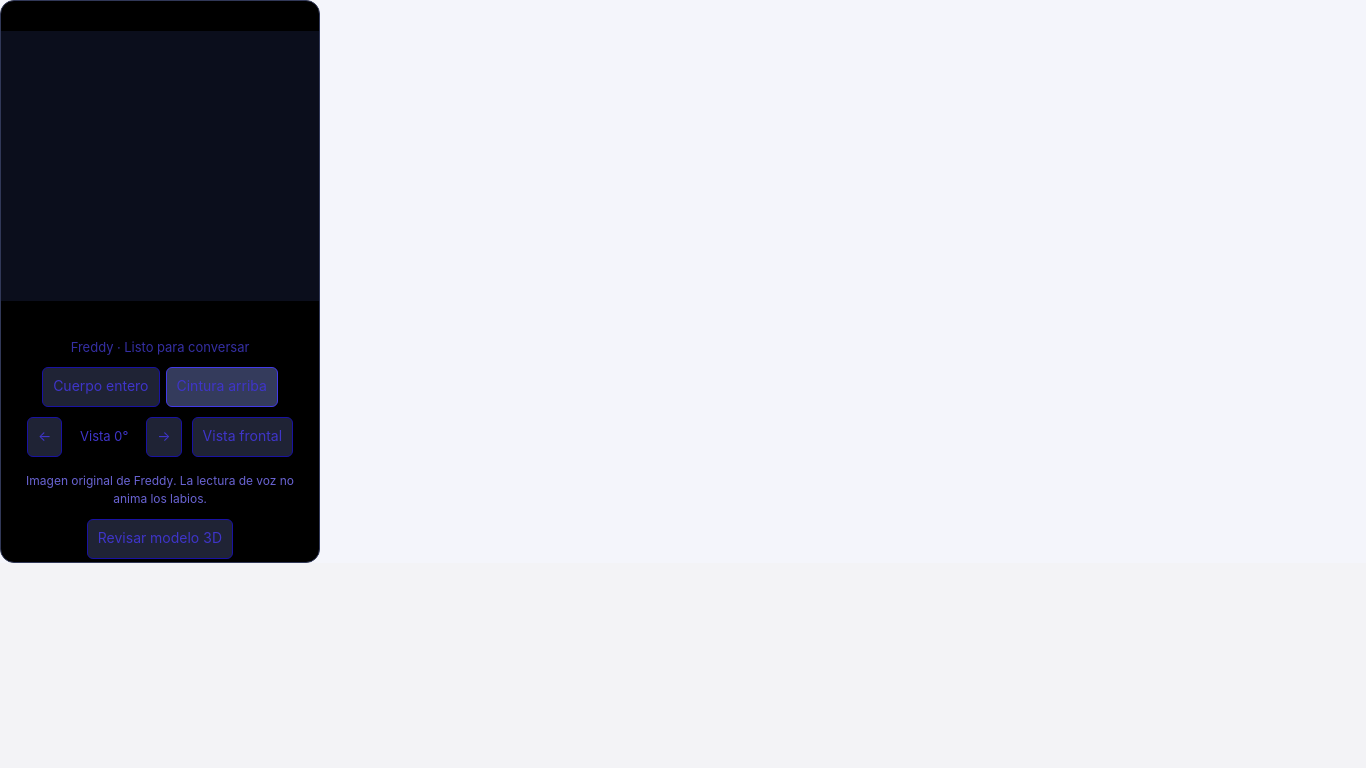
Test: keeps the original portrait on entry and offers a download when the optional 3D viewer lacks WebGL
The image size is (1366, 768).
Later steps or results of the test are not shown.
Click the button "Revisar modelo 3D": [160, 539] box [87, 519, 233, 559]
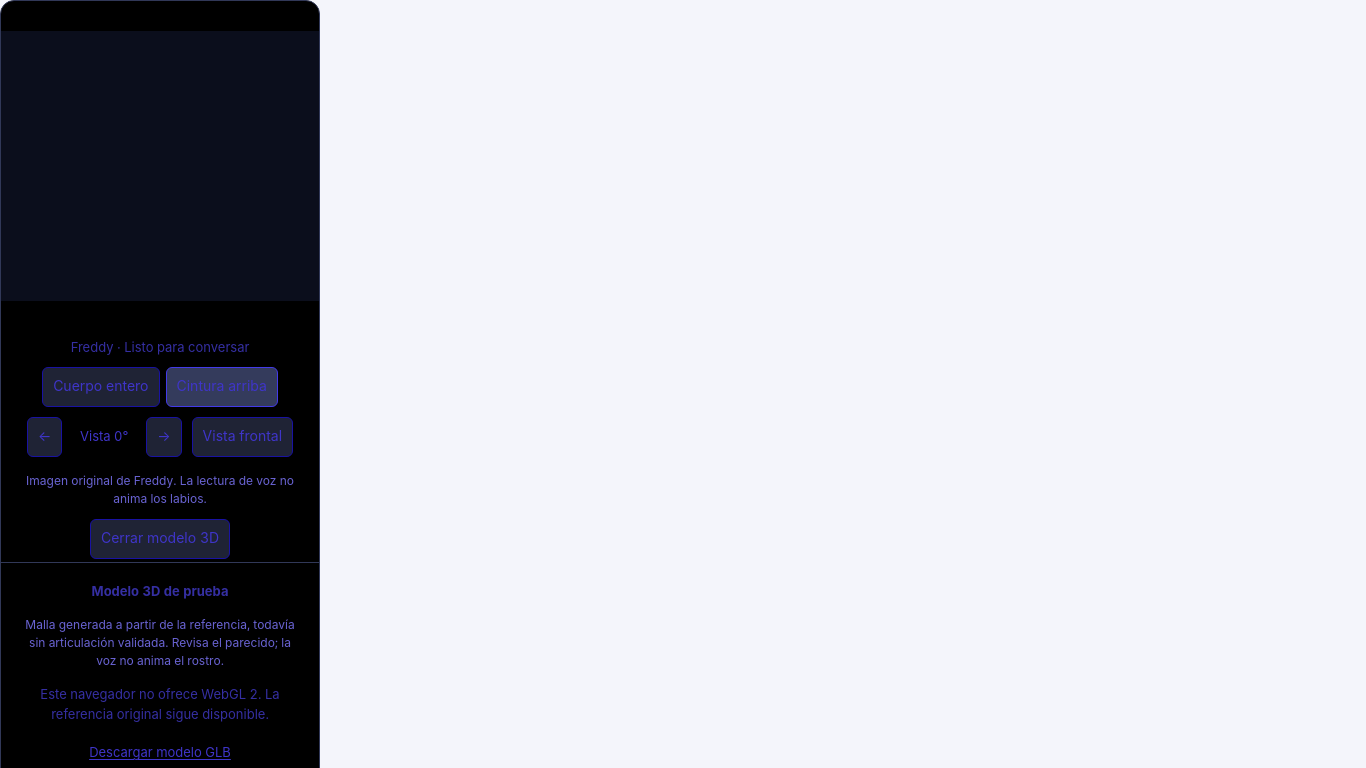
Now the text "Este navegador no ofrece WebGL 2. La referencia original sigue disponible." is shown, box [40, 686, 280, 722]
